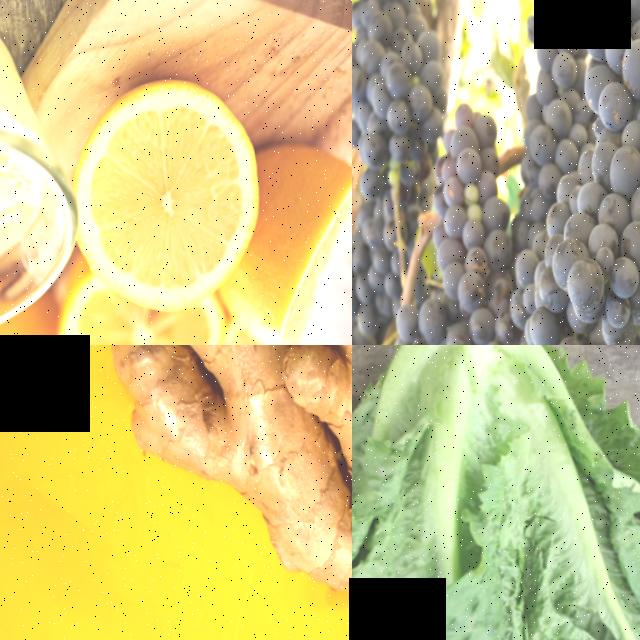ginger: (97, 345, 352, 640)
grapes: (533, 0, 640, 345), (413, 109, 514, 345), (352, 0, 448, 189), (352, 213, 398, 345)
lemon: (74, 91, 253, 312), (256, 148, 352, 345), (49, 306, 219, 345)
lettuce: (352, 446, 640, 640)
